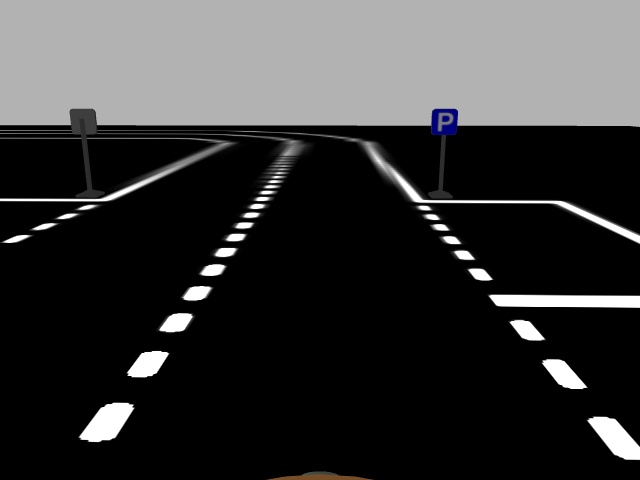parking: (431, 107, 457, 135)
